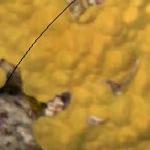alive: (2, 3, 145, 146)
